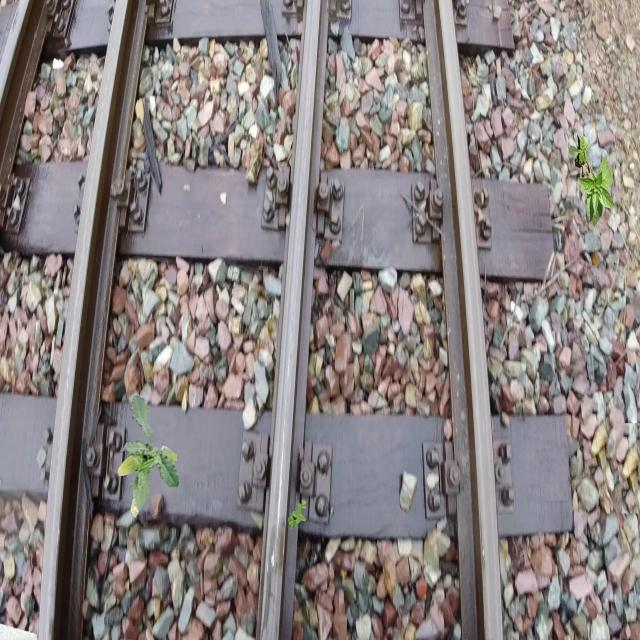Plant: (117, 393, 180, 518), (569, 132, 617, 227), (288, 499, 308, 532)
